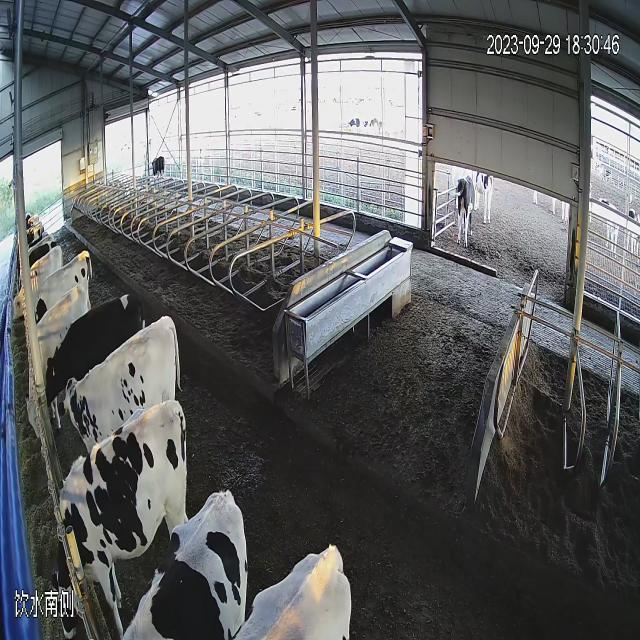feeding: (59, 402, 188, 640), (24, 281, 96, 442), (10, 242, 66, 323)
standing: (453, 154, 480, 256), (142, 150, 174, 196)
